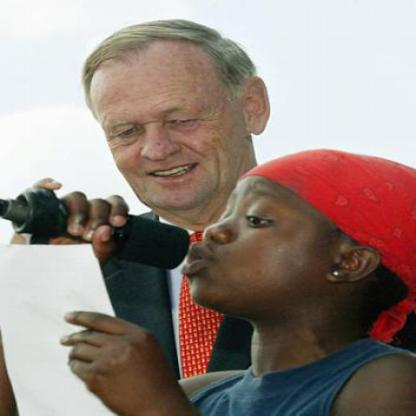face: (93, 27, 247, 215), (193, 140, 348, 325)
